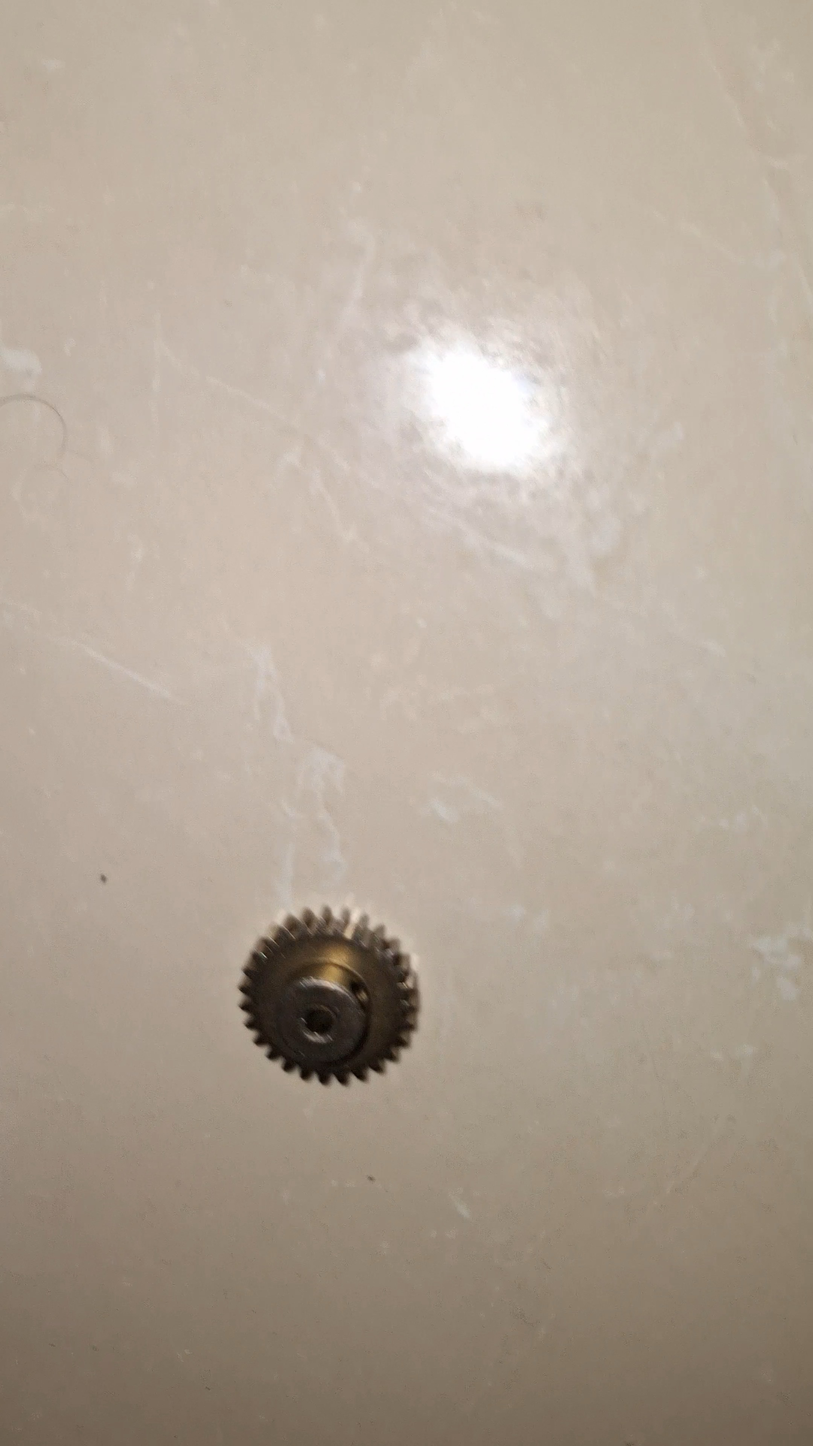spur gear: (241, 907, 417, 1083)
